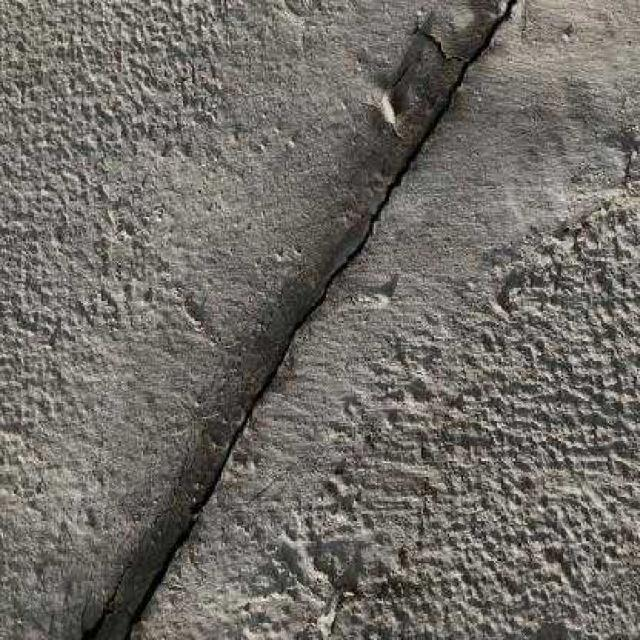D00: (123, 0, 518, 640)
